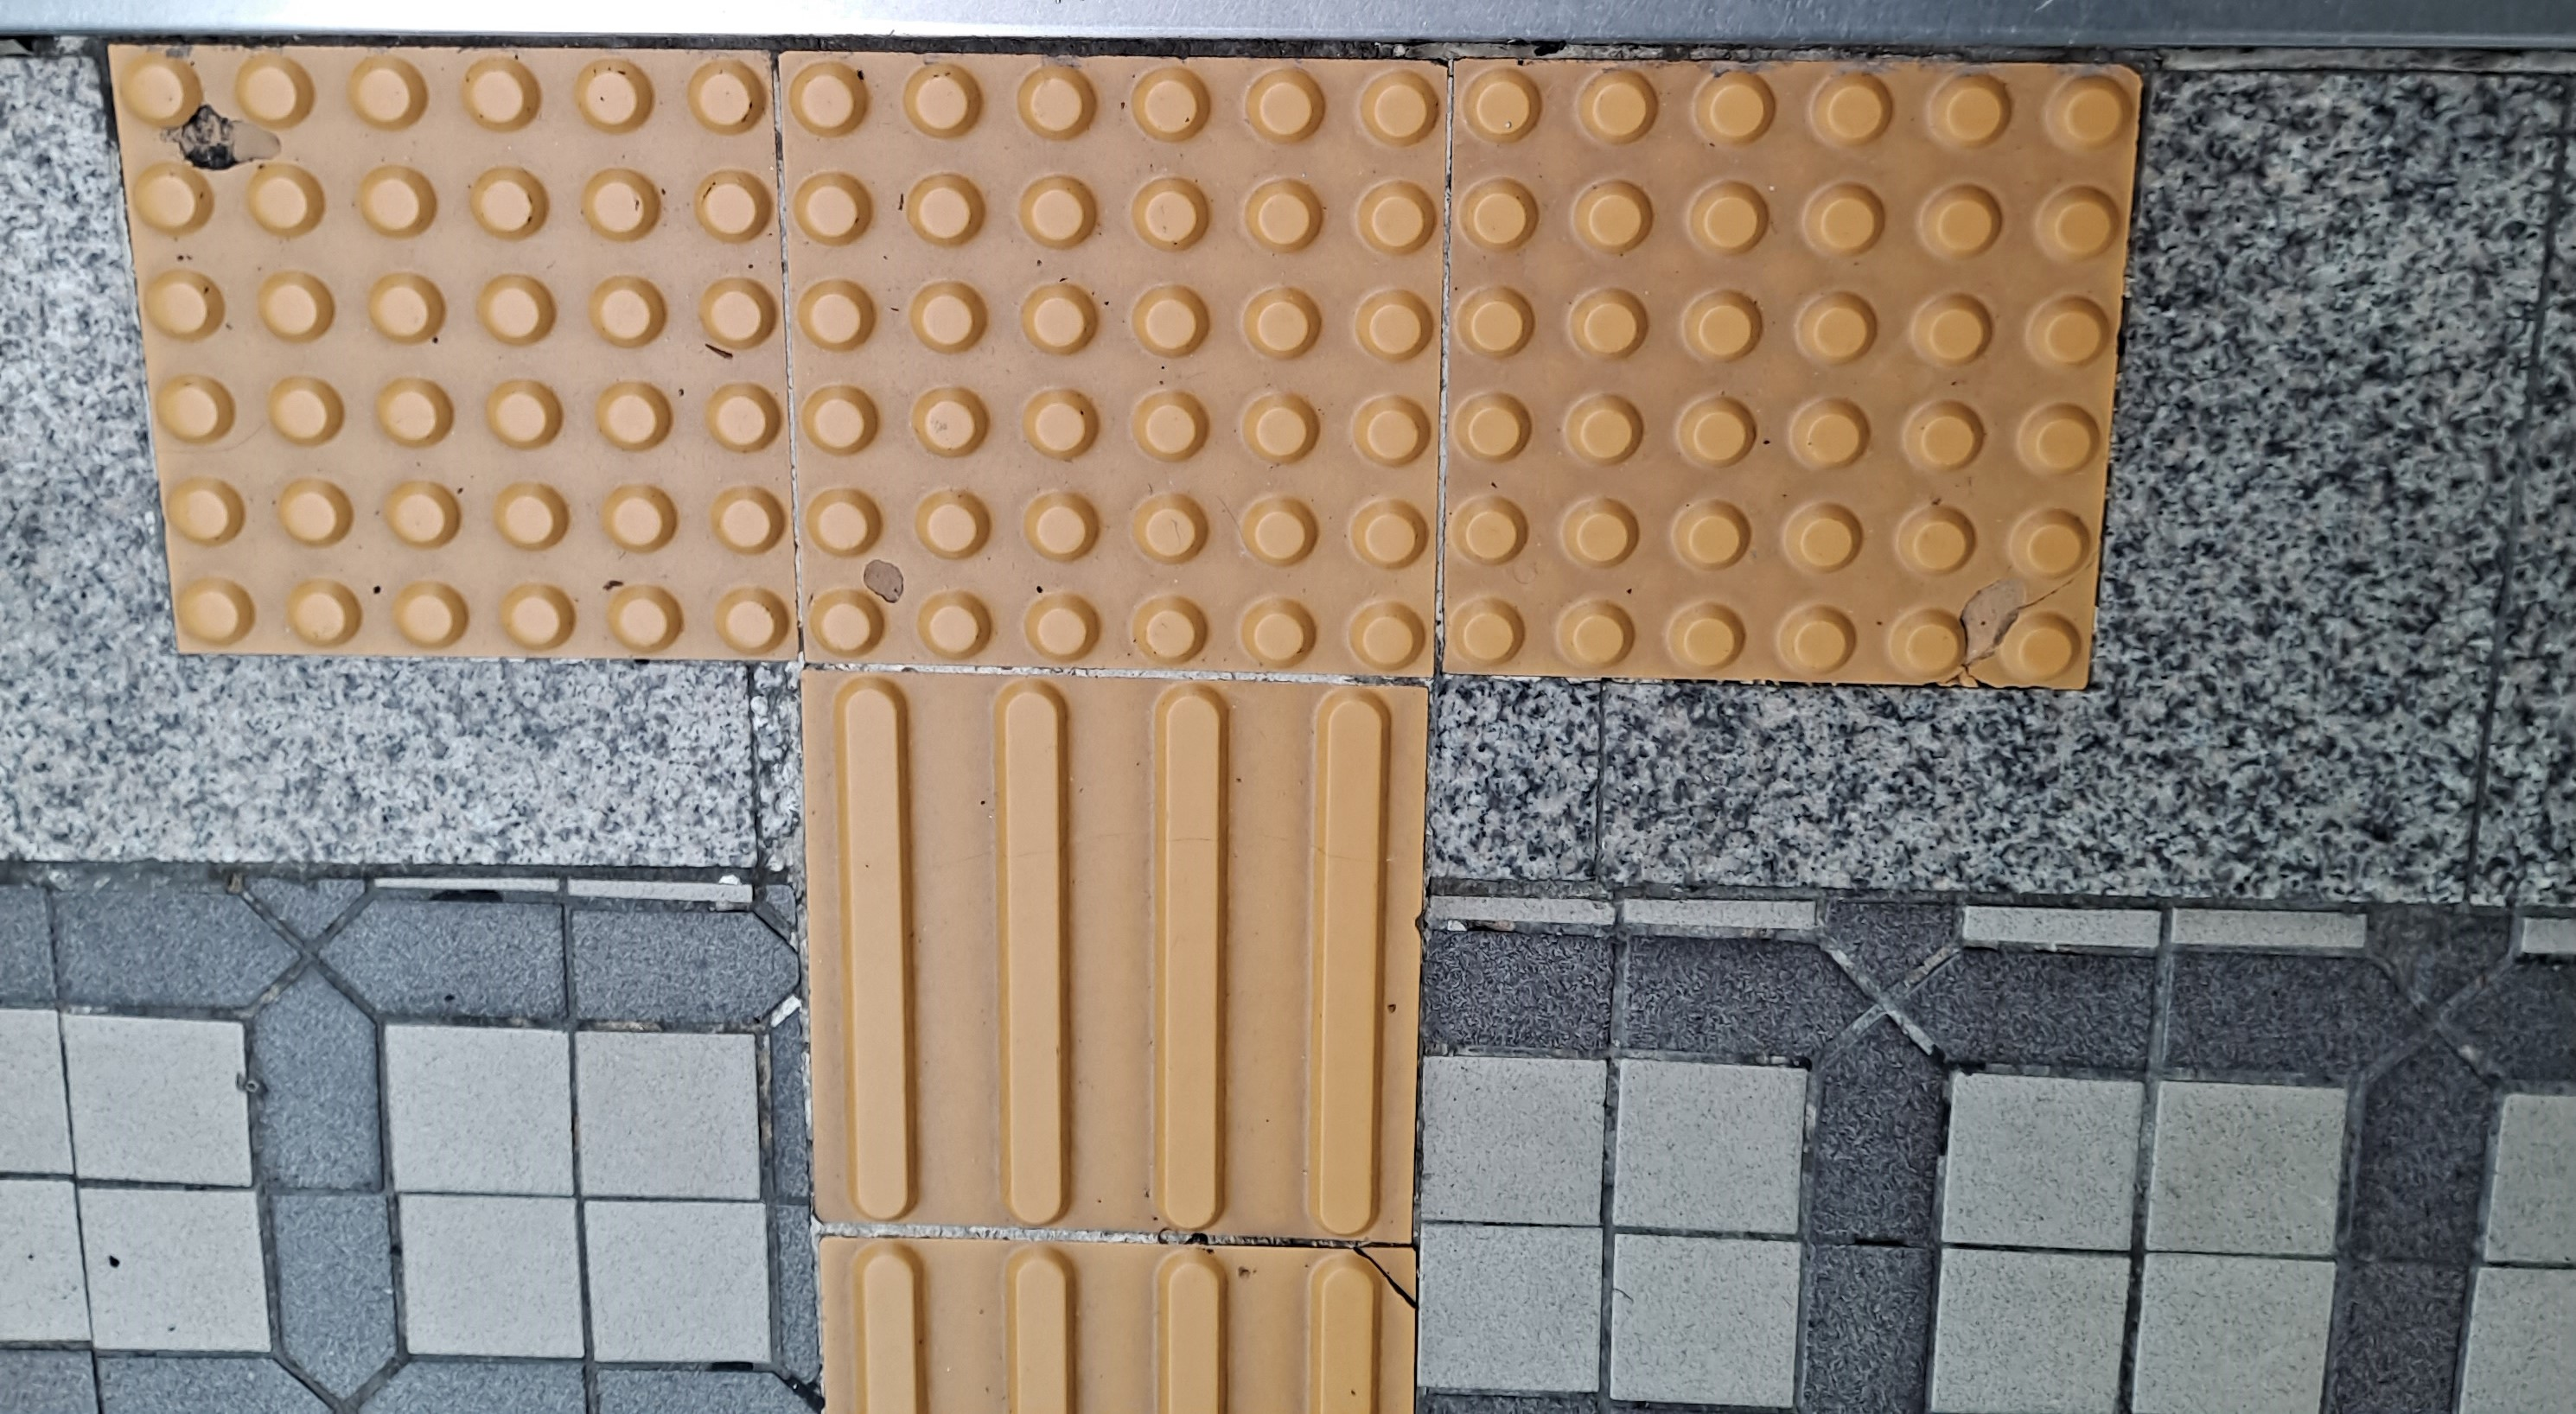guideBlock: (784, 656, 1446, 1240), (813, 1212, 1423, 1414)
warningBlock: (85, 61, 820, 641), (777, 54, 1498, 641), (1467, 89, 2078, 702)
